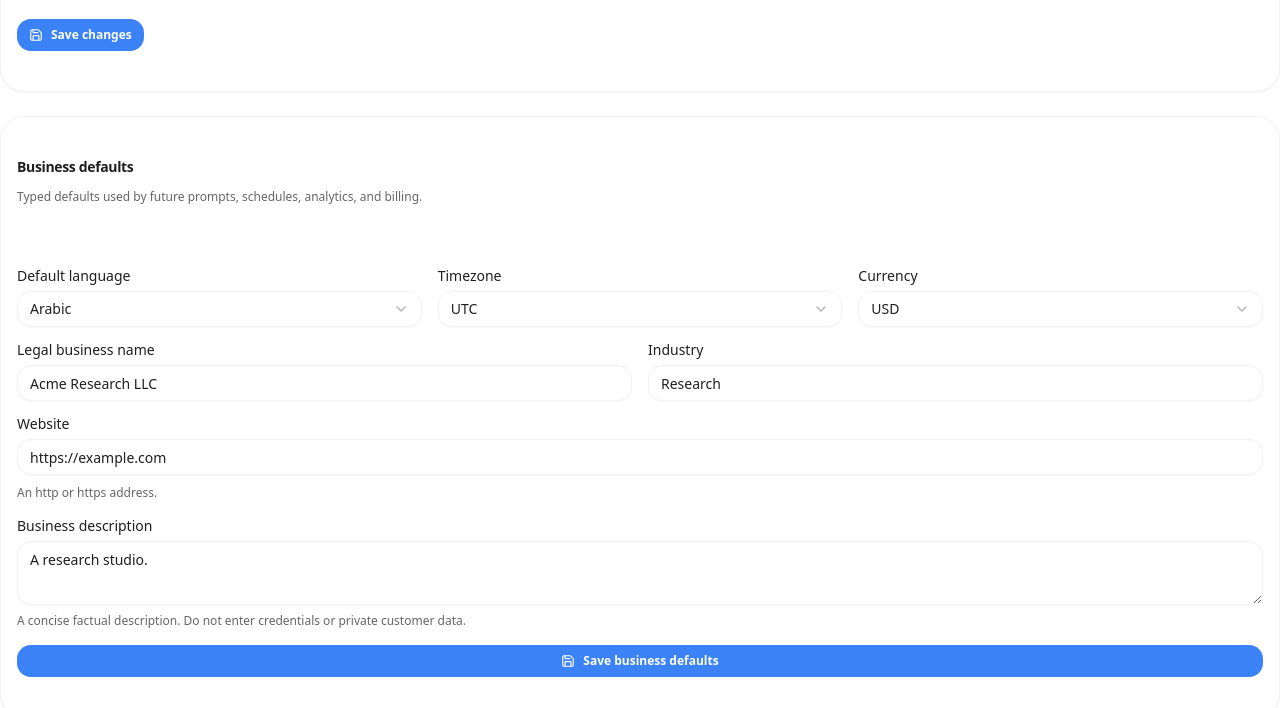
Scenario: the business defaults form › saves only the typed profile contract and revalidates
(page scrolled)
Replace the text in the field labelled "Legal business name" with "Acme Labs": (324, 383) x1=17 y1=365 x2=632 y2=401
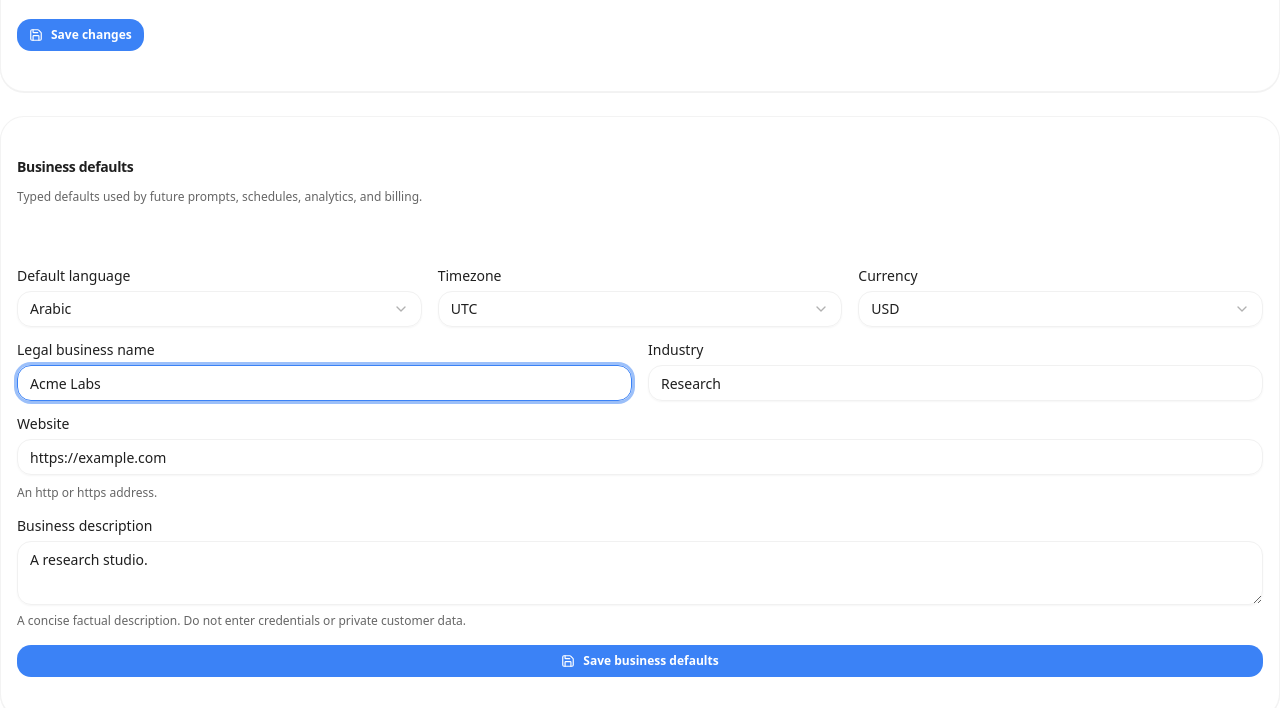
Click the button "Save business defaults": (640, 661) x1=17 y1=645 x2=1263 y2=677
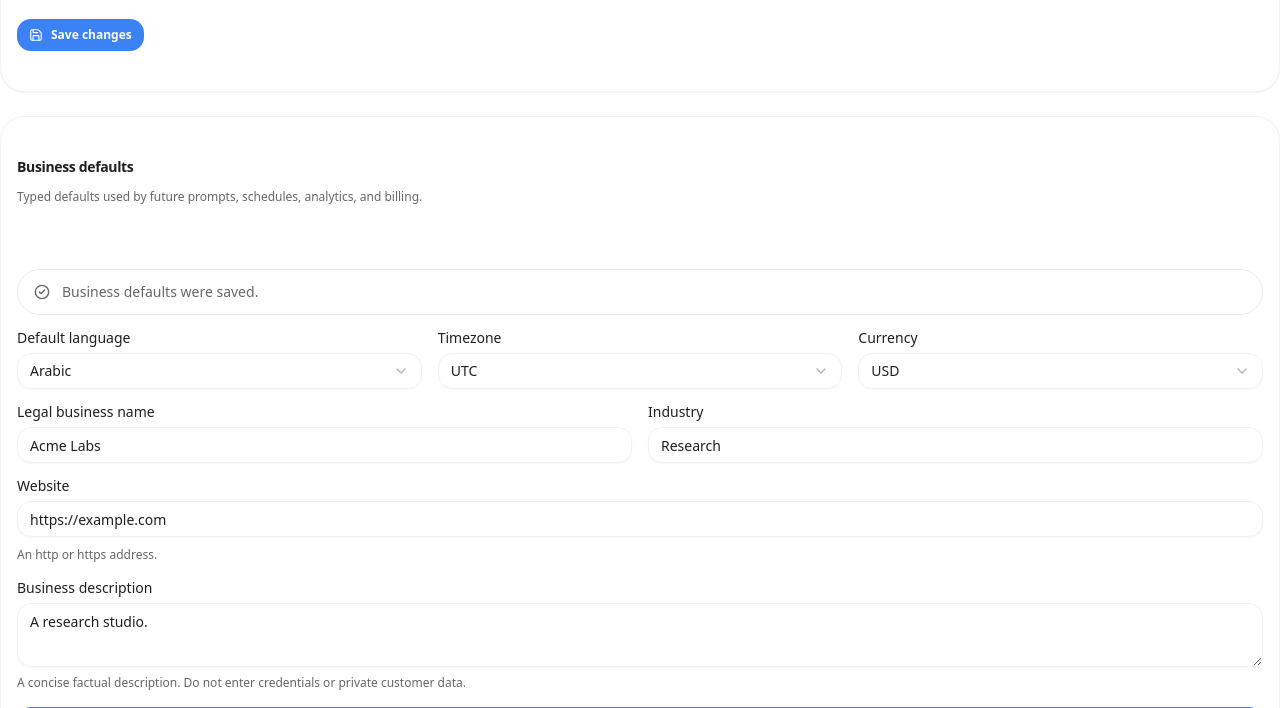
Check: the text "Business defaults were saved." is shown, box x1=62 y1=282 x2=258 y2=301
